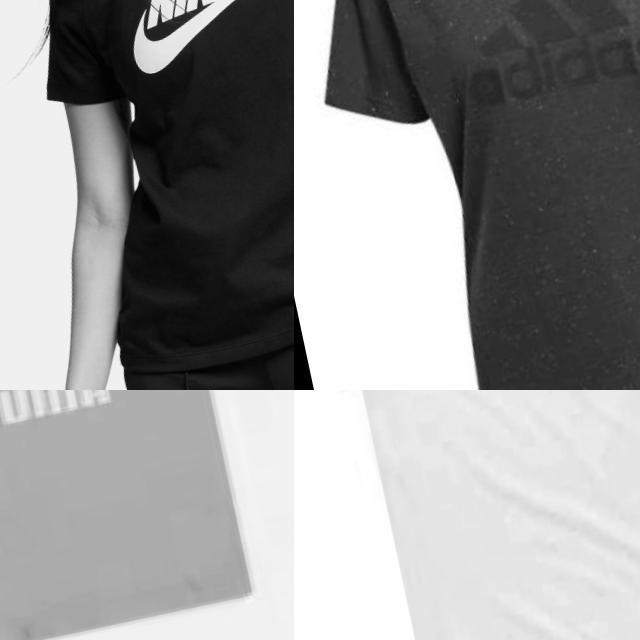ADIDAS_original: (432, 0, 640, 144)
NIKE_original: (100, 0, 294, 85)
PUMA_original: (0, 390, 173, 460)
